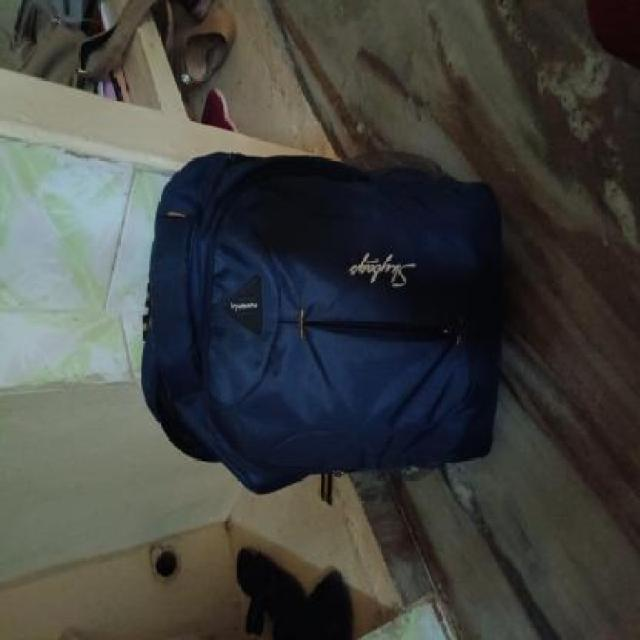backpack: (137, 146, 508, 502)
